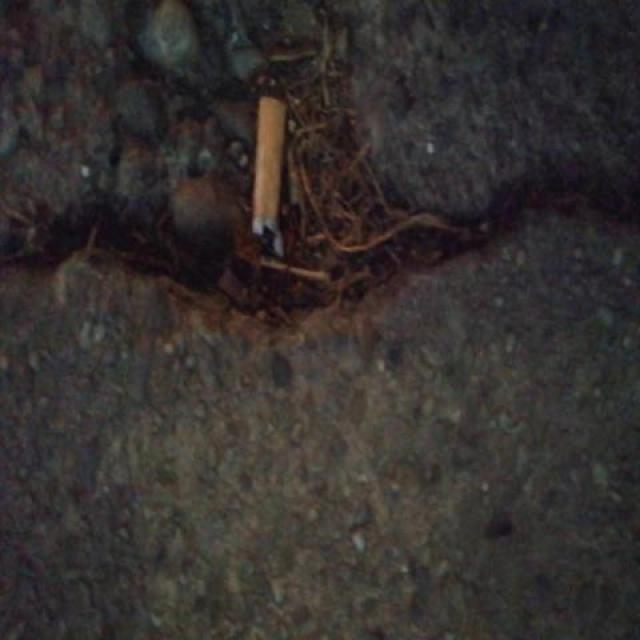non-organic waste: (246, 92, 290, 260)
